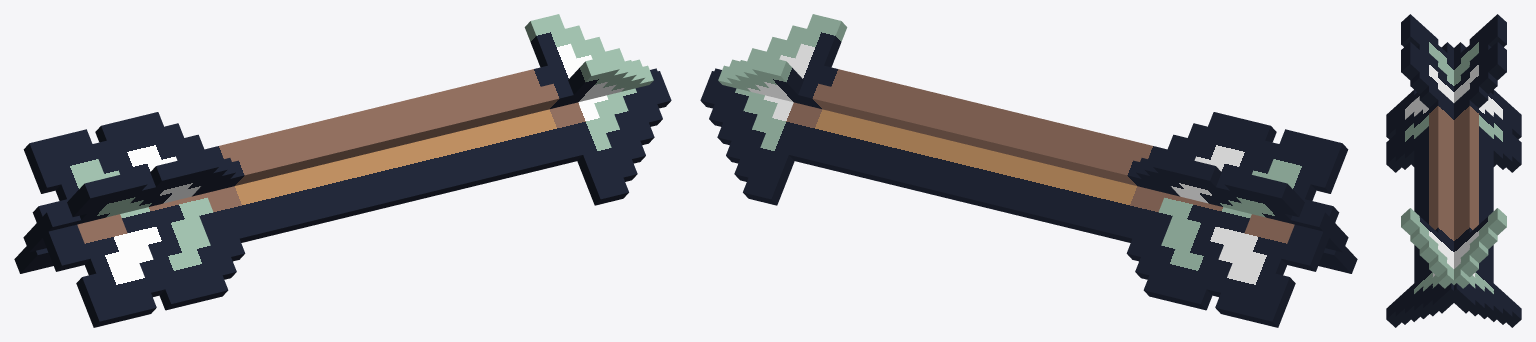
The model's file is arrow.fbx.
The picture shows the model from 3 angles, left to right: view 1: azimuth 30°, elevation 25°; view 2: azimuth 150°, elevation 25°; view 3: azimuth 270°, elevation 25°; orthographic projection. The views are drawn at different scales.
Visible parts, largest first — view 1: Arrow, Arrow_10_1, Arrow_2_1, Arrow_1_1, Arrow_3_1, Arrow_12_1, Arrow_15, Arrow_9_1; view 2: Arrow_10_1, Arrow, Arrow_2_1, Arrow_3_1, Arrow_9_1, Arrow_1_1, Arrow_12_1, Arrow_6_1, Arrow_5_1, Arrow_4_1, Arrow_7_1, Arrow_8_1 (+4 smaller); view 3: Arrow, Arrow_10_1, Arrow_2_1, Arrow_3_1, Arrow_1_1, Arrow_9_1, Arrow_6_1, Arrow_5_1, Arrow_8_1, Arrow_7_1, Arrow_11_1, Arrow_13_1 (+4 smaller).
Part boxes in pixels (box(x1,y1,x2,y2)): Arrow: box(23, 14, 671, 327); Arrow_10_1: box(220, 80, 573, 189); Arrow_2_1: box(135, 152, 218, 210); Arrow_1_1: box(67, 169, 147, 216); Arrow_3_1: box(564, 54, 619, 105); Arrow_12_1: box(23, 207, 80, 252); Arrow_15: box(14, 246, 49, 273); Arrow_9_1: box(35, 203, 129, 270); Arrow_10_1: box(789, 65, 1167, 242); Arrow: box(714, 54, 1357, 273); Arrow_2_1: box(1143, 112, 1276, 310); Arrow_3_1: box(743, 14, 847, 205); Arrow_9_1: box(1215, 174, 1316, 324); Arrow_1_1: box(1268, 129, 1348, 193); Arrow_12_1: box(1281, 199, 1339, 271); Arrow_6_1: box(734, 25, 806, 181); Arrow_5_1: box(1135, 123, 1207, 279); Arrow_4_1: box(1206, 140, 1279, 296); Arrow_7_1: box(1126, 134, 1187, 261); Arrow_8_1: box(726, 37, 786, 163); Arrow: box(1386, 14, 1506, 327); Arrow_10_1: box(1429, 100, 1493, 282); Arrow_2_1: box(1401, 42, 1521, 172); Arrow_3_1: box(1401, 208, 1521, 327); Arrow_1_1: box(1401, 14, 1438, 60); Arrow_9_1: box(1438, 45, 1521, 139); Arrow_6_1: box(1410, 227, 1512, 324); Arrow_5_1: box(1410, 72, 1512, 169); Arrow_8_1: box(1419, 241, 1502, 321); Arrow_7_1: box(1419, 86, 1502, 166); Arrow_11_1: box(1429, 255, 1493, 318); Arrow_13_1: box(1438, 269, 1484, 316).
Bounding box in the file's own units: 1075 × 230 × 258.
1 material, 1 textured.
